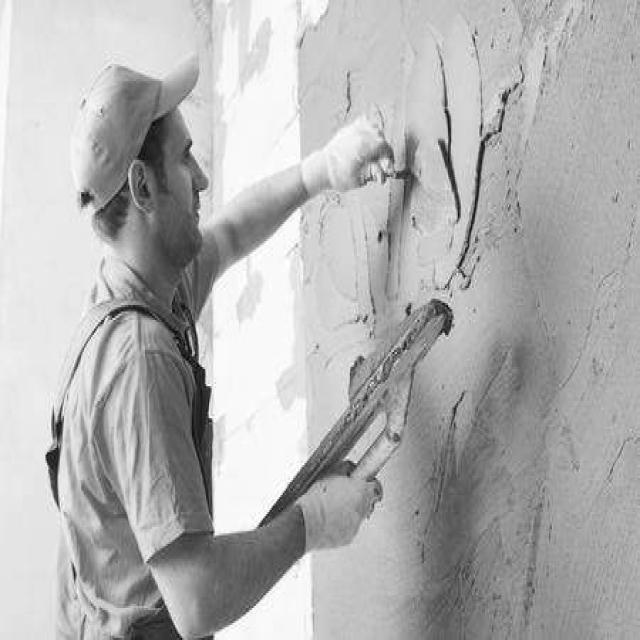trowels marks: (412, 317, 583, 640), (421, 0, 570, 301), (314, 176, 411, 367), (556, 204, 640, 416), (591, 422, 640, 502), (320, 49, 357, 120)
